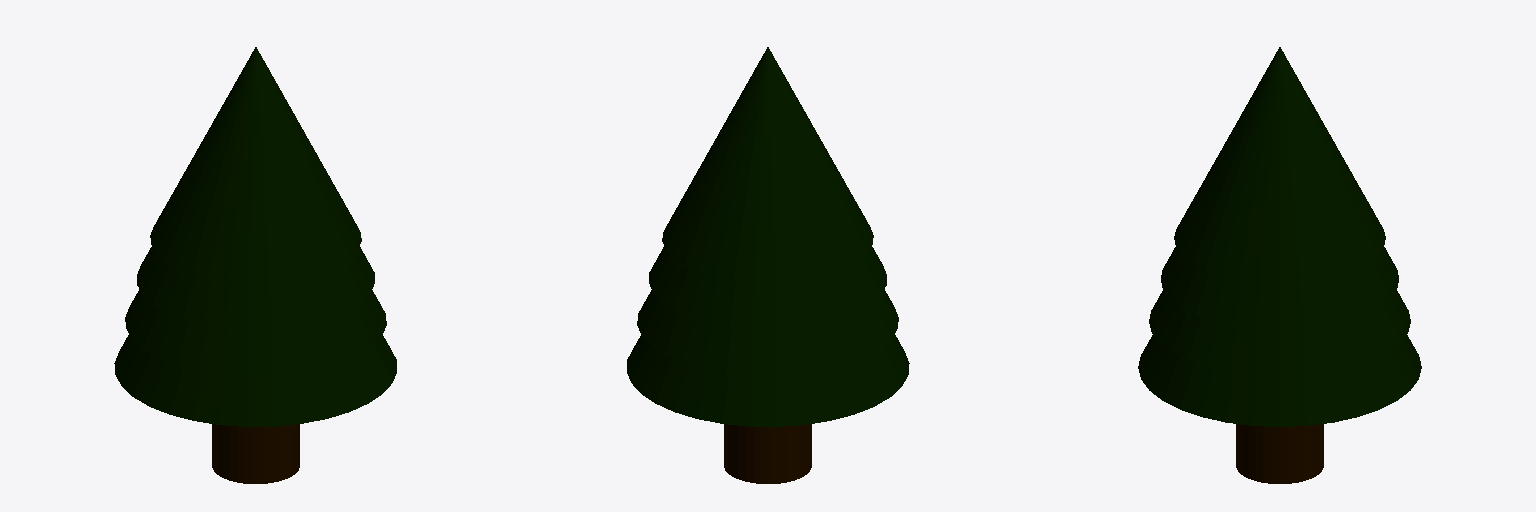
Rendered from pineTree.obj.
3 views of the same model, side by side, from view 1: azimuth 30°, elevation 25°; view 2: azimuth 150°, elevation 25°; view 3: azimuth 270°, elevation 25° (orthographic).
Visible parts, largest first — view 1: Cone.003, Cone.002, Cone.001, Cone, Cylinder; view 2: Cone.003, Cone.002, Cone.001, Cone, Cylinder; view 3: Cone.003, Cone.002, Cone.001, Cone, Cylinder.
Part boxes in pixels (bbox=[...]): Cone.003: bbox=[150, 47, 361, 282]; Cone.002: bbox=[114, 335, 396, 426]; Cone.001: bbox=[125, 289, 386, 376]; Cone: bbox=[137, 247, 374, 328]; Cylinder: bbox=[212, 424, 299, 483]; Cone.003: bbox=[662, 47, 873, 282]; Cone.002: bbox=[627, 335, 909, 426]; Cone.001: bbox=[637, 289, 898, 376]; Cone: bbox=[649, 247, 886, 328]; Cylinder: bbox=[724, 424, 811, 483]; Cone.003: bbox=[1174, 47, 1385, 282]; Cone.002: bbox=[1138, 335, 1421, 426]; Cone.001: bbox=[1149, 290, 1410, 376]; Cone: bbox=[1161, 247, 1398, 328]; Cylinder: bbox=[1236, 424, 1323, 483].
Size of the model in its own units: 1.95 by 3.18 by 1.95.